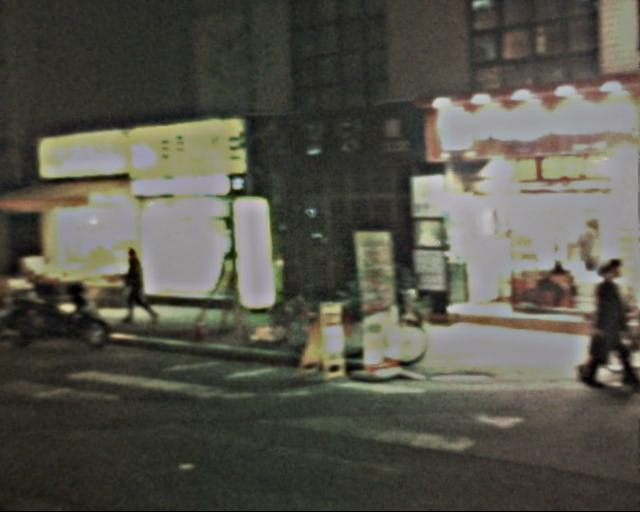person: (561, 257, 640, 392), (105, 244, 152, 327)
